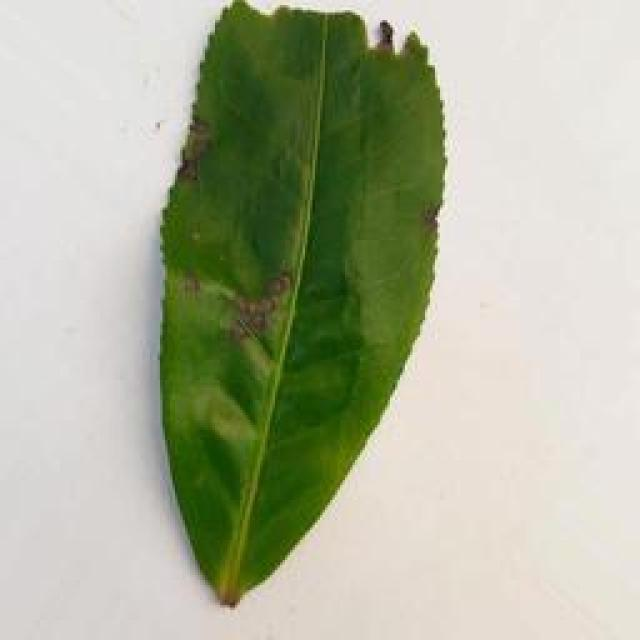Helopeltis: (144, 2, 449, 609)
